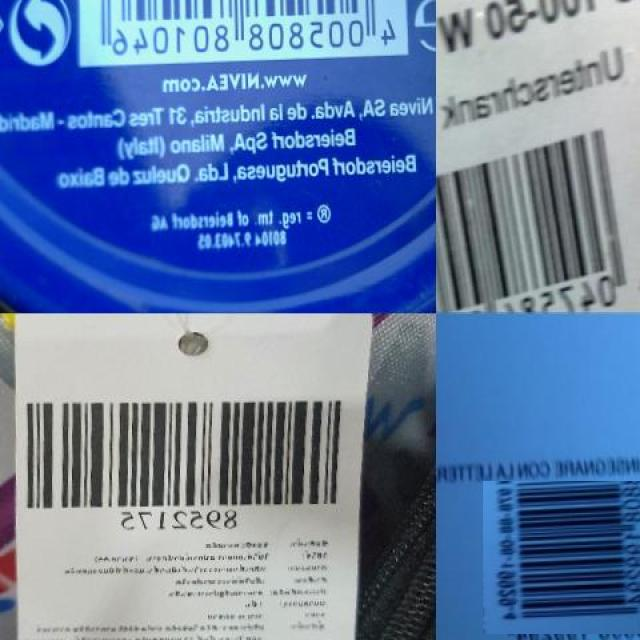Barcode: (14, 377, 355, 531), (436, 102, 640, 314), (485, 479, 640, 636), (72, 0, 412, 68)
